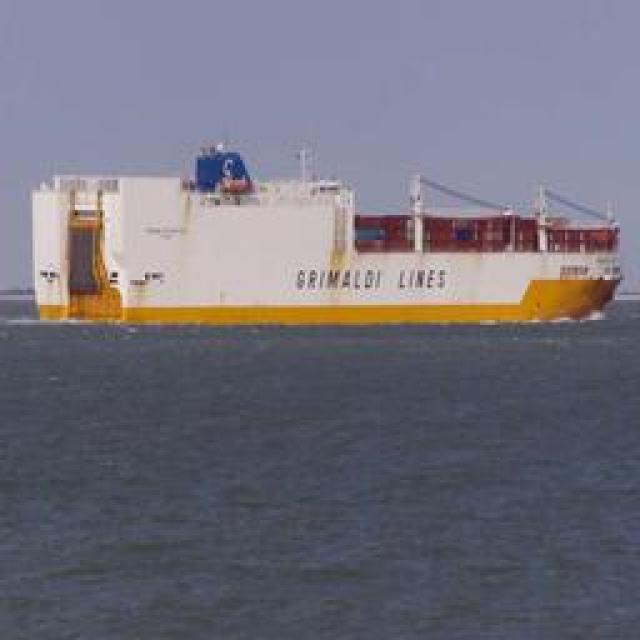CIV_Ship: (16, 154, 616, 328)
